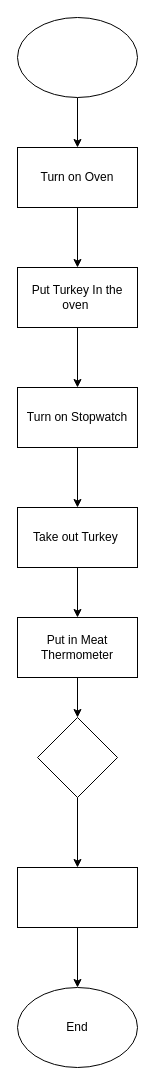
Some shapes in this 155 by 1085 pixel diagram are drawn without their labels. Here are the shapes that lost their labels. From the top down, the centre of each, then its label:
At pixel 77 57: "Start".
At pixel 77 757: "Has the Tirkey been in the Oven for 4 hours or is Turkey 180?".
At pixel 77 897: "Turn off Oven".
